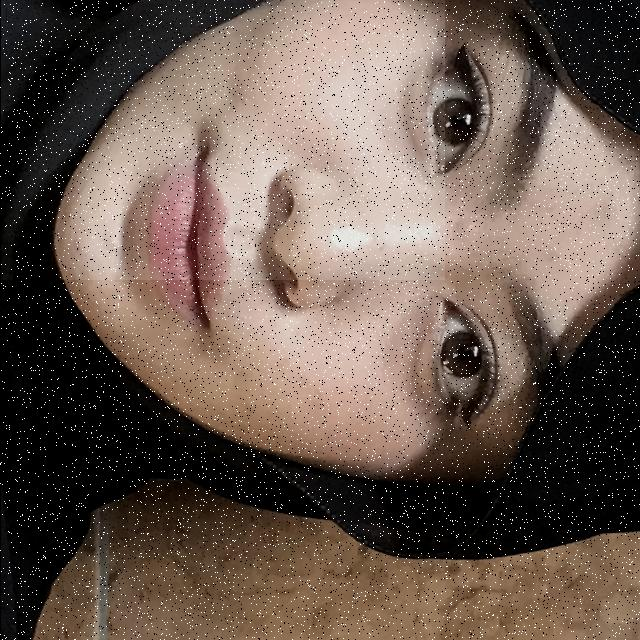ibu: (0, 0, 444, 280)
